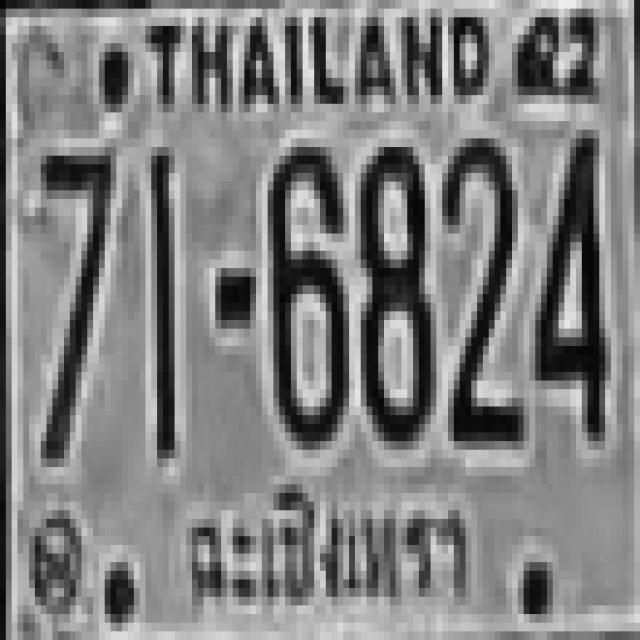1: (148, 147, 178, 441)
2: (445, 134, 515, 437), (442, 134, 512, 420)
4: (530, 121, 605, 433)
6: (268, 138, 343, 441)
7: (38, 143, 113, 454), (40, 147, 110, 346)
8: (355, 138, 430, 441)
Chachoengsao: (175, 481, 476, 616)
